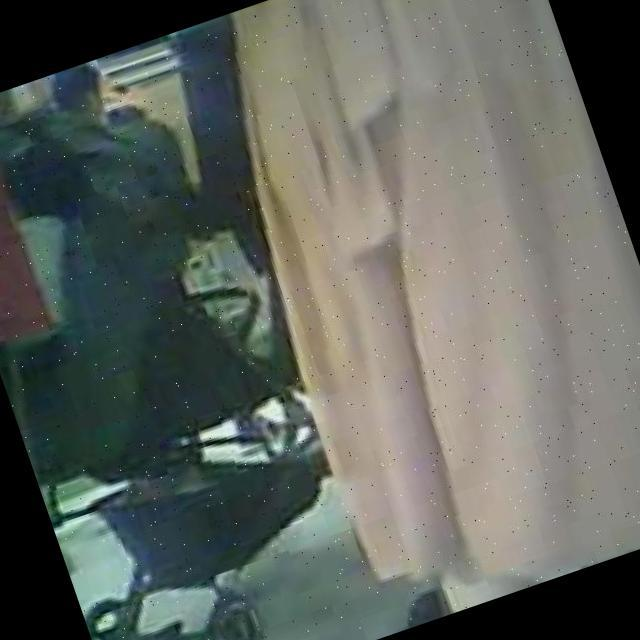person: (190, 0, 640, 631), (34, 52, 140, 156)
